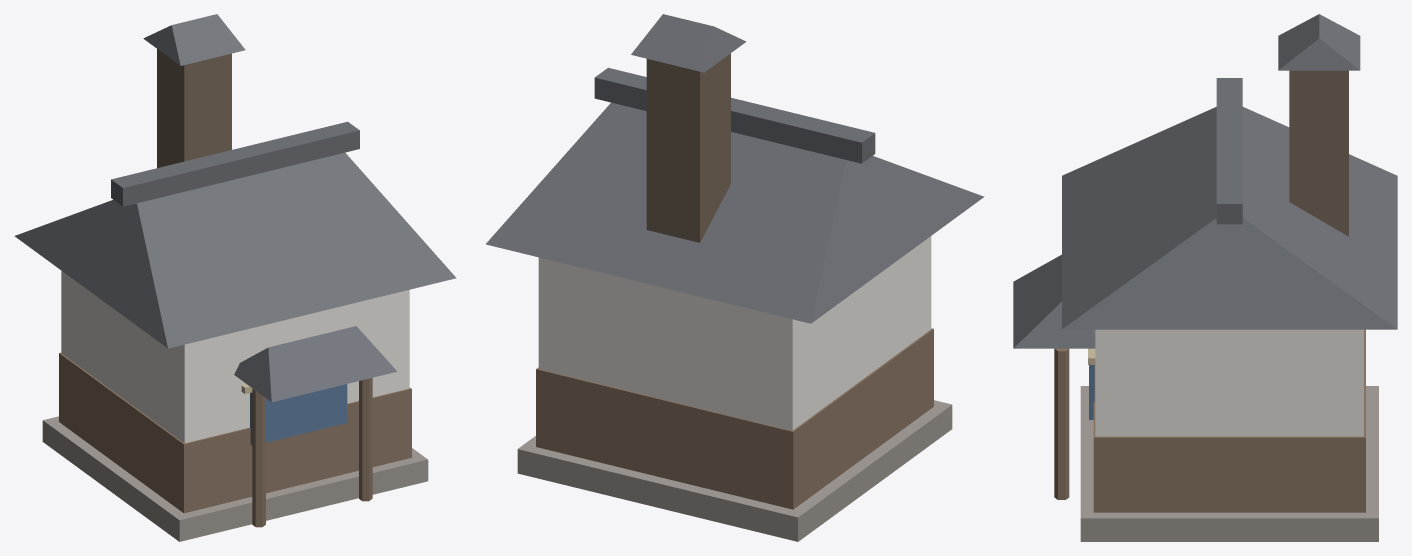
File: civic_sento.glb
3 renders of one model, left to right at view 1: azimuth 30°, elevation 25°; view 2: azimuth 150°, elevation 25°; view 3: azimuth 270°, elevation 25°, orthographic. The views are drawn at different scales.
Visible parts, largest first — view 1: Sento_Roof, Main_Hall, Timber_Dado, Sento_Foundation, Sento_Ridge, Steam_Chimney, Karahafu_Canopy, Noren_Curtain, Chimney_Cap, Post_Left, Post_Right; view 2: Sento_Roof, Main_Hall, Timber_Dado, Sento_Foundation, Steam_Chimney, Sento_Ridge, Chimney_Cap; view 3: Sento_Roof, Main_Hall, Timber_Dado, Sento_Foundation, Steam_Chimney, Karahafu_Canopy, Sento_Ridge, Chimney_Cap, Post_Right.
Boxes of the visible parts, bbox=[...] form: Sento_Roof: bbox=[14, 152, 456, 348]; Main_Hall: bbox=[61, 271, 409, 443]; Timber_Dado: bbox=[59, 352, 411, 513]; Sento_Foundation: bbox=[42, 416, 428, 541]; Sento_Ridge: bbox=[111, 121, 359, 206]; Steam_Chimney: bbox=[157, 49, 231, 167]; Karahafu_Canopy: bbox=[234, 326, 396, 402]; Noren_Curtain: bbox=[250, 384, 347, 445]; Chimney_Cap: bbox=[143, 14, 245, 65]; Post_Left: bbox=[252, 388, 265, 527]; Post_Right: bbox=[359, 378, 372, 501]; Sento_Roof: bbox=[486, 102, 984, 323]; Main_Hall: bbox=[538, 236, 931, 430]; Timber_Dado: bbox=[536, 328, 933, 509]; Sento_Foundation: bbox=[517, 400, 952, 541]; Steam_Chimney: bbox=[646, 53, 730, 242]; Sento_Ridge: bbox=[594, 67, 875, 163]; Chimney_Cap: bbox=[631, 14, 746, 72]; Sento_Roof: bbox=[1062, 107, 1397, 329]; Main_Hall: bbox=[1095, 329, 1363, 436]; Timber_Dado: bbox=[1093, 329, 1365, 512]; Sento_Foundation: bbox=[1080, 386, 1378, 541]; Steam_Chimney: bbox=[1289, 70, 1348, 236]; Karahafu_Canopy: bbox=[1013, 254, 1095, 348]; Sento_Ridge: bbox=[1216, 78, 1242, 224]; Chimney_Cap: bbox=[1278, 14, 1360, 70]; Post_Right: bbox=[1054, 348, 1069, 499].
Size of the model in its own units: 1.95 by 2.66 by 2.06.
